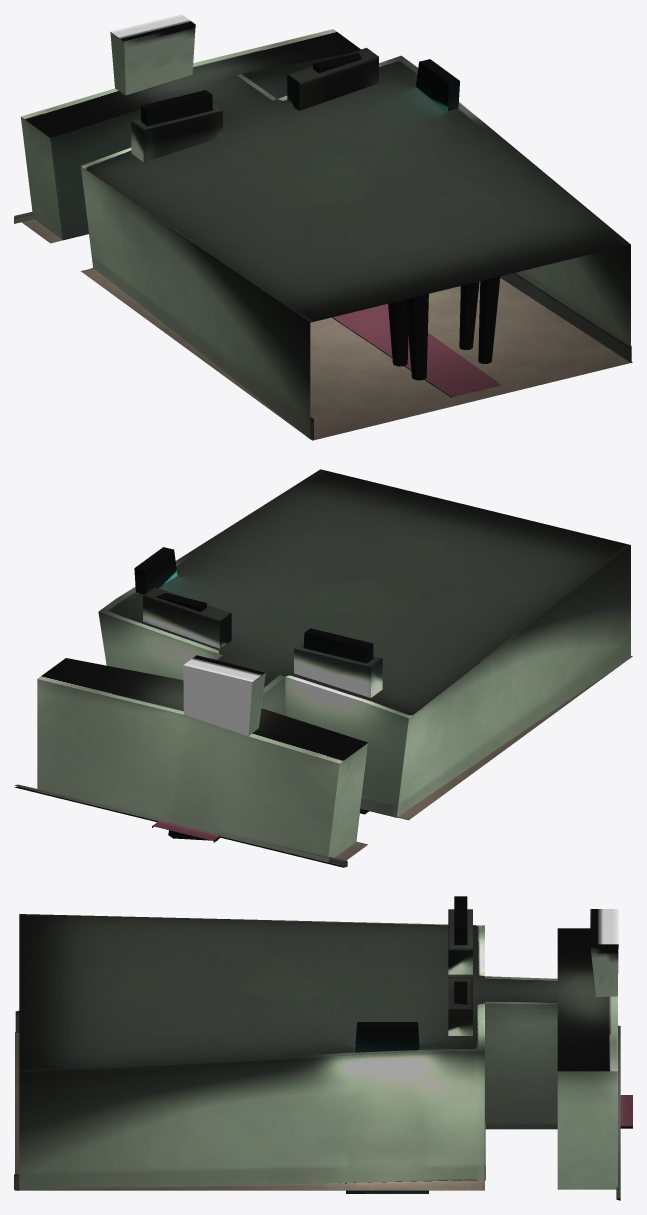
Rendered from lobbyMenu_FIX.fbx.
3 views of the same model, one above another, from view 1: azimuth 30°, elevation 25°; view 2: azimuth 150°, elevation 25°; view 3: azimuth 270°, elevation 25° (orthographic). The views are drawn at different scales.
Visible parts, largest first — view 1: polySurface42; view 2: polySurface42; view 3: polySurface42.
Part boxes in pixels (<box>): polySurface42: <box>14,14,632,440</box>; polySurface42: <box>14,469,632,867</box>; polySurface42: <box>14,896,632,1200</box>.
Bounding box in the file's own units: 30.84 × 16.35 × 47.59.
